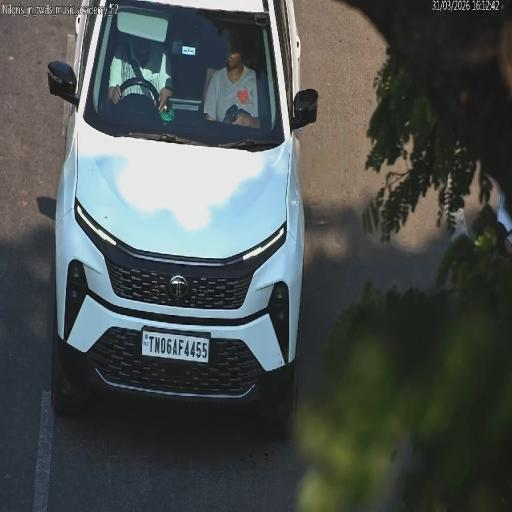person_with_seatbelt: (118, 36, 154, 105)
person_without_seatbelt: (217, 63, 256, 124)
